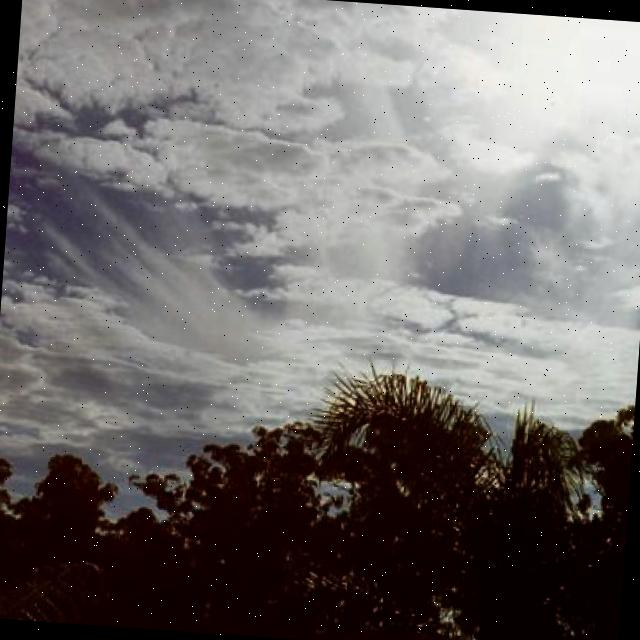Cs: (1, 21, 640, 373)
